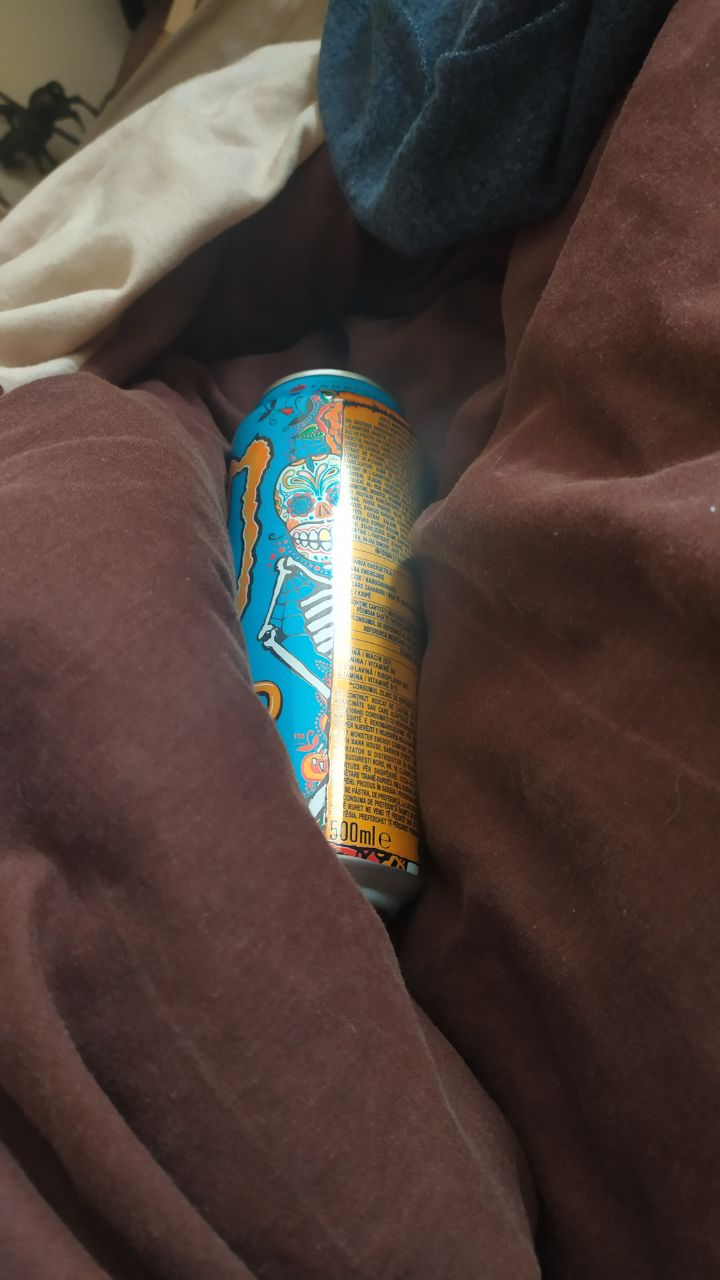Can: (217, 360, 421, 905)
